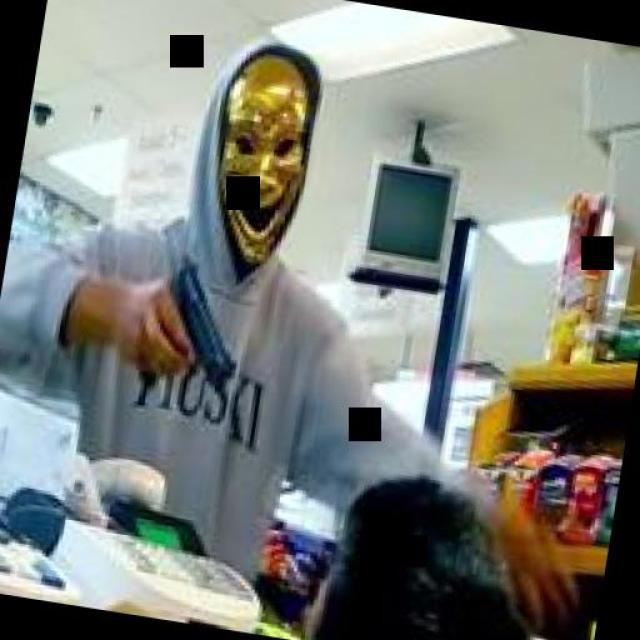gun: (125, 249, 253, 385)
